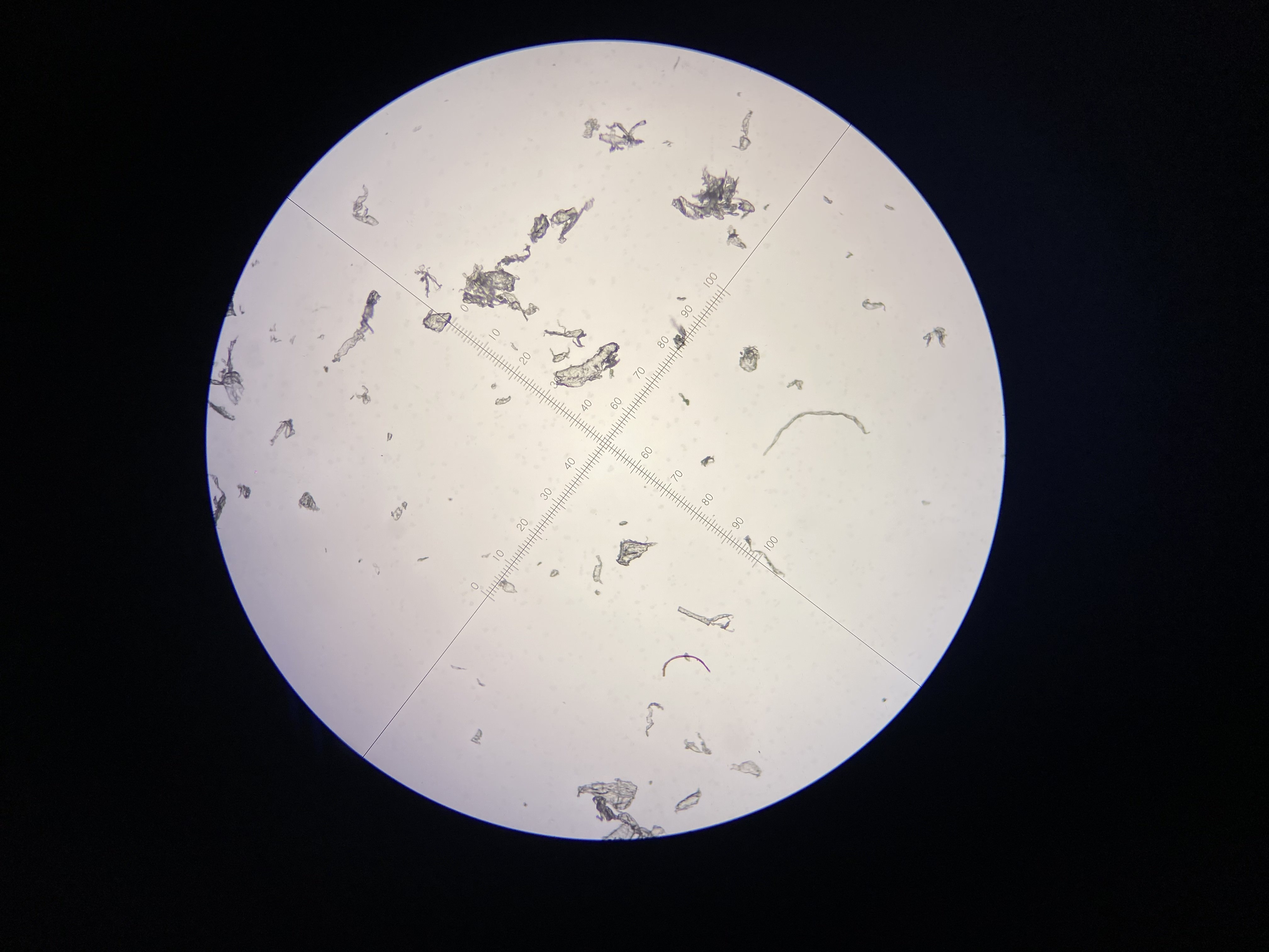microplastic: (458, 243, 540, 322), (577, 777, 665, 841), (763, 411, 870, 456), (671, 166, 755, 220), (331, 290, 382, 363), (553, 342, 621, 388), (209, 335, 245, 405), (549, 197, 595, 244), (743, 535, 785, 579), (599, 120, 647, 154), (677, 606, 735, 633), (543, 319, 587, 348), (663, 653, 711, 677), (616, 539, 658, 566), (352, 184, 379, 226), (206, 473, 226, 527), (414, 264, 443, 298), (731, 110, 753, 151), (421, 309, 452, 334), (269, 418, 295, 446), (527, 213, 550, 244), (683, 731, 712, 755), (675, 788, 702, 813), (645, 703, 664, 737), (729, 760, 762, 778), (208, 399, 235, 421), (739, 345, 760, 372), (670, 316, 687, 349), (922, 327, 947, 348), (726, 224, 747, 249), (298, 492, 320, 512), (593, 555, 603, 596), (581, 118, 600, 139), (350, 386, 371, 405), (391, 501, 408, 521), (862, 298, 886, 312), (549, 347, 570, 363), (225, 300, 245, 316), (497, 580, 517, 593), (237, 483, 251, 499), (470, 729, 482, 745), (787, 379, 803, 389), (495, 395, 511, 405), (701, 456, 714, 467), (679, 393, 689, 405), (823, 195, 833, 204), (662, 140, 674, 147), (270, 335, 282, 342), (477, 678, 486, 687), (451, 665, 467, 670), (845, 251, 854, 259), (550, 569, 559, 577), (269, 323, 277, 332), (481, 552, 491, 559), (510, 343, 518, 351), (289, 335, 296, 344), (884, 204, 894, 210), (417, 557, 429, 562), (619, 521, 629, 526), (763, 204, 770, 211), (386, 433, 392, 441), (317, 334, 325, 340), (677, 297, 687, 301), (324, 366, 329, 373), (491, 382, 496, 389)
